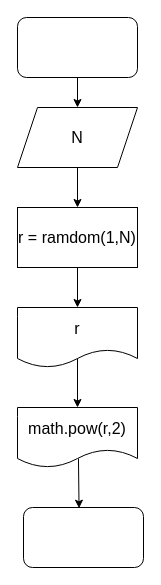
Image size: 161x585. Some labels were removed from this diagram. The shapes that lost their labels are listed below. From the top down, each one's centre as x and y in pixels, then its label:
the point at 77,47: start
the point at 83,537: end
